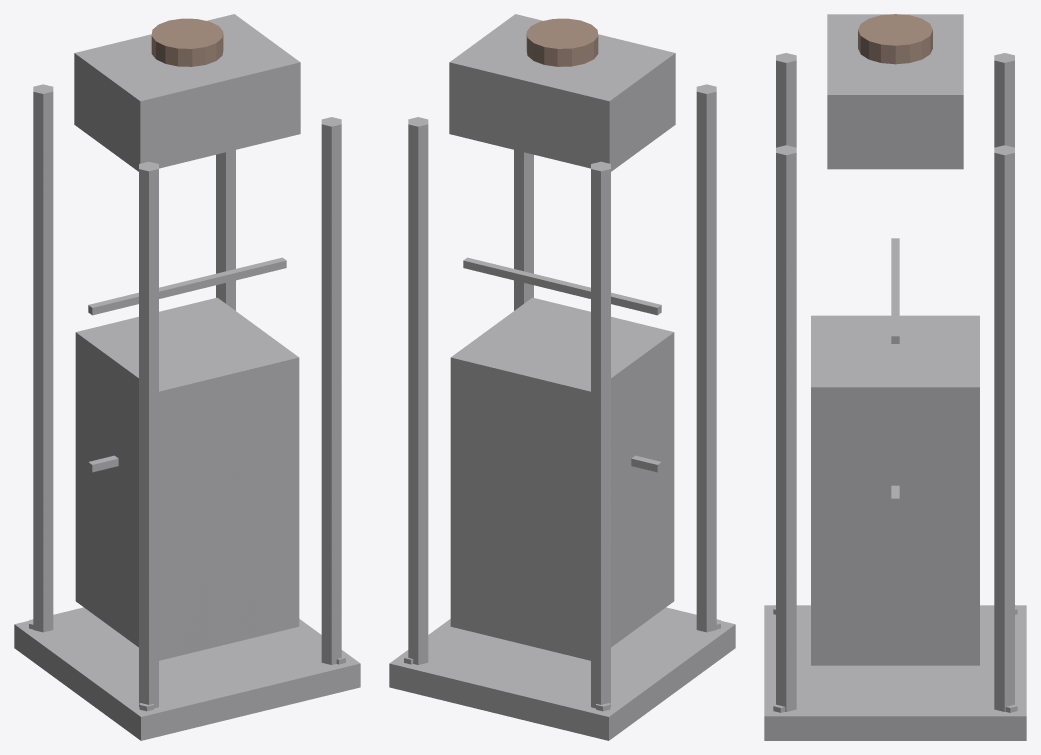
The model's file is elevator_uncommon.glb.
The picture shows the model from 3 angles, left to right: view 1: azimuth 30°, elevation 25°; view 2: azimuth 150°, elevation 25°; view 3: azimuth 270°, elevation 25°; orthographic projection. The views are drawn at different scales.
Visible parts, largest first — view 1: elevator, cage; view 2: elevator, cage; view 3: elevator, cage.
Part boxes in pixels (left/top/right/bottom): elevator: left=14, top=14, right=360, bottom=740; cage: left=75, top=297, right=299, bottom=660; elevator: left=389, top=14, right=735, bottom=740; cage: left=450, top=297, right=674, bottom=660; elevator: left=764, top=14, right=1026, bottom=740; cage: left=811, top=315, right=979, bottom=665.
Bounding box in the file's own units: 1.54 × 4.24 × 1.54.
